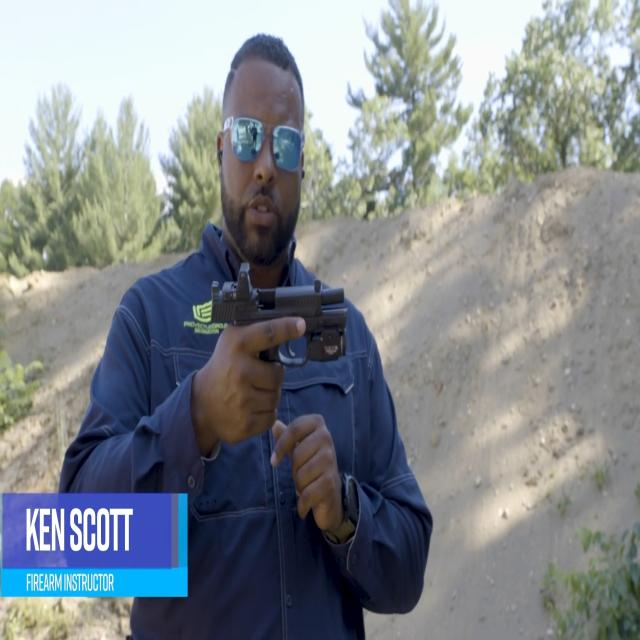Gun_Holder: (191, 265, 356, 412)
Person: (55, 24, 435, 640)
